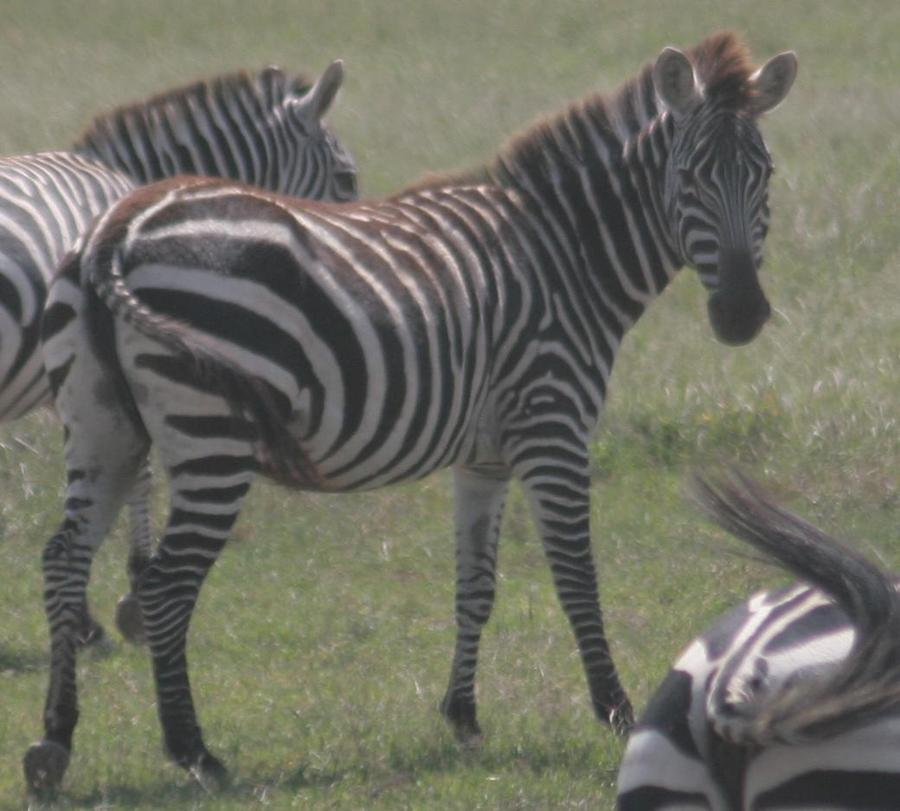zebra_plains: (80, 118, 660, 569)
